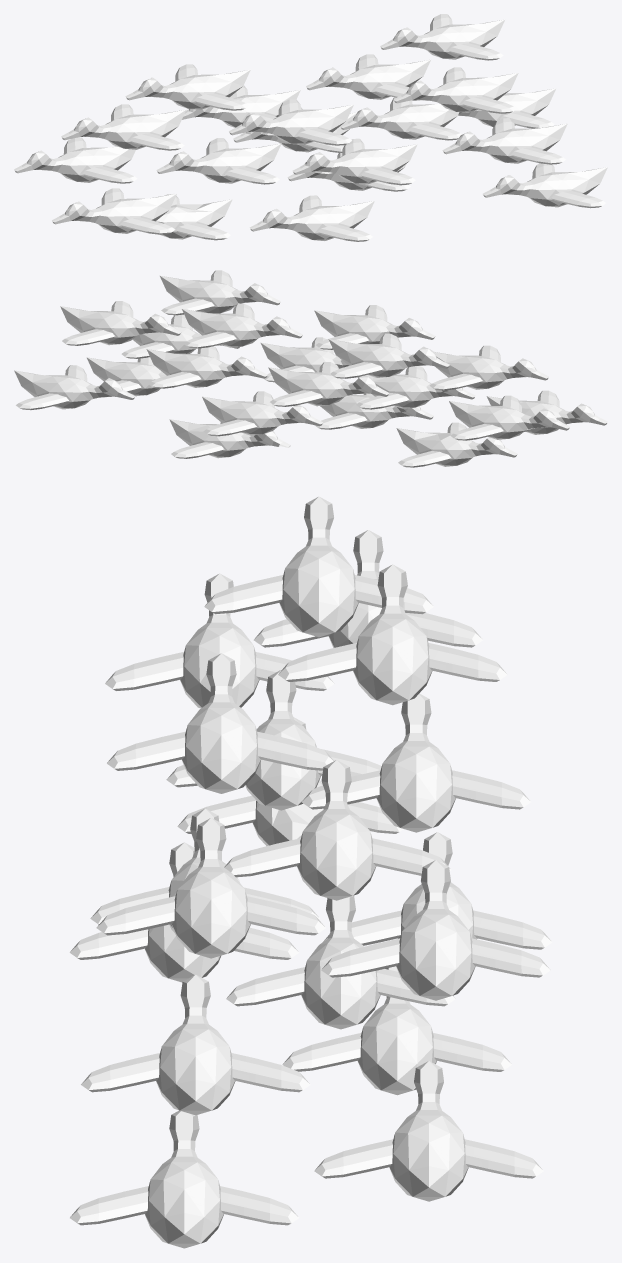
Rendered from Streep vogels.fbx.
3 views of the same model, one above another, from view 1: azimuth 30°, elevation 25°; view 2: azimuth 150°, elevation 25°; view 3: azimuth 270°, elevation 25° (orthographic). The views are drawn at different scales.
Visible parts, largest first — view 1: -; view 2: -; view 3: -.
Part boxes in pixels (x1,y1,x2,y2): -: [14, 14, 607, 241]; -: [14, 270, 607, 467]; -: [69, 496, 552, 1248].
Bounding box in the file's own units: 370 × 109 × 143.
